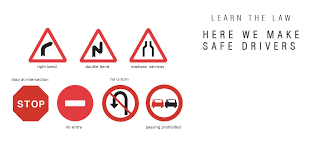Double_bend_right: (80, 29, 118, 62)
